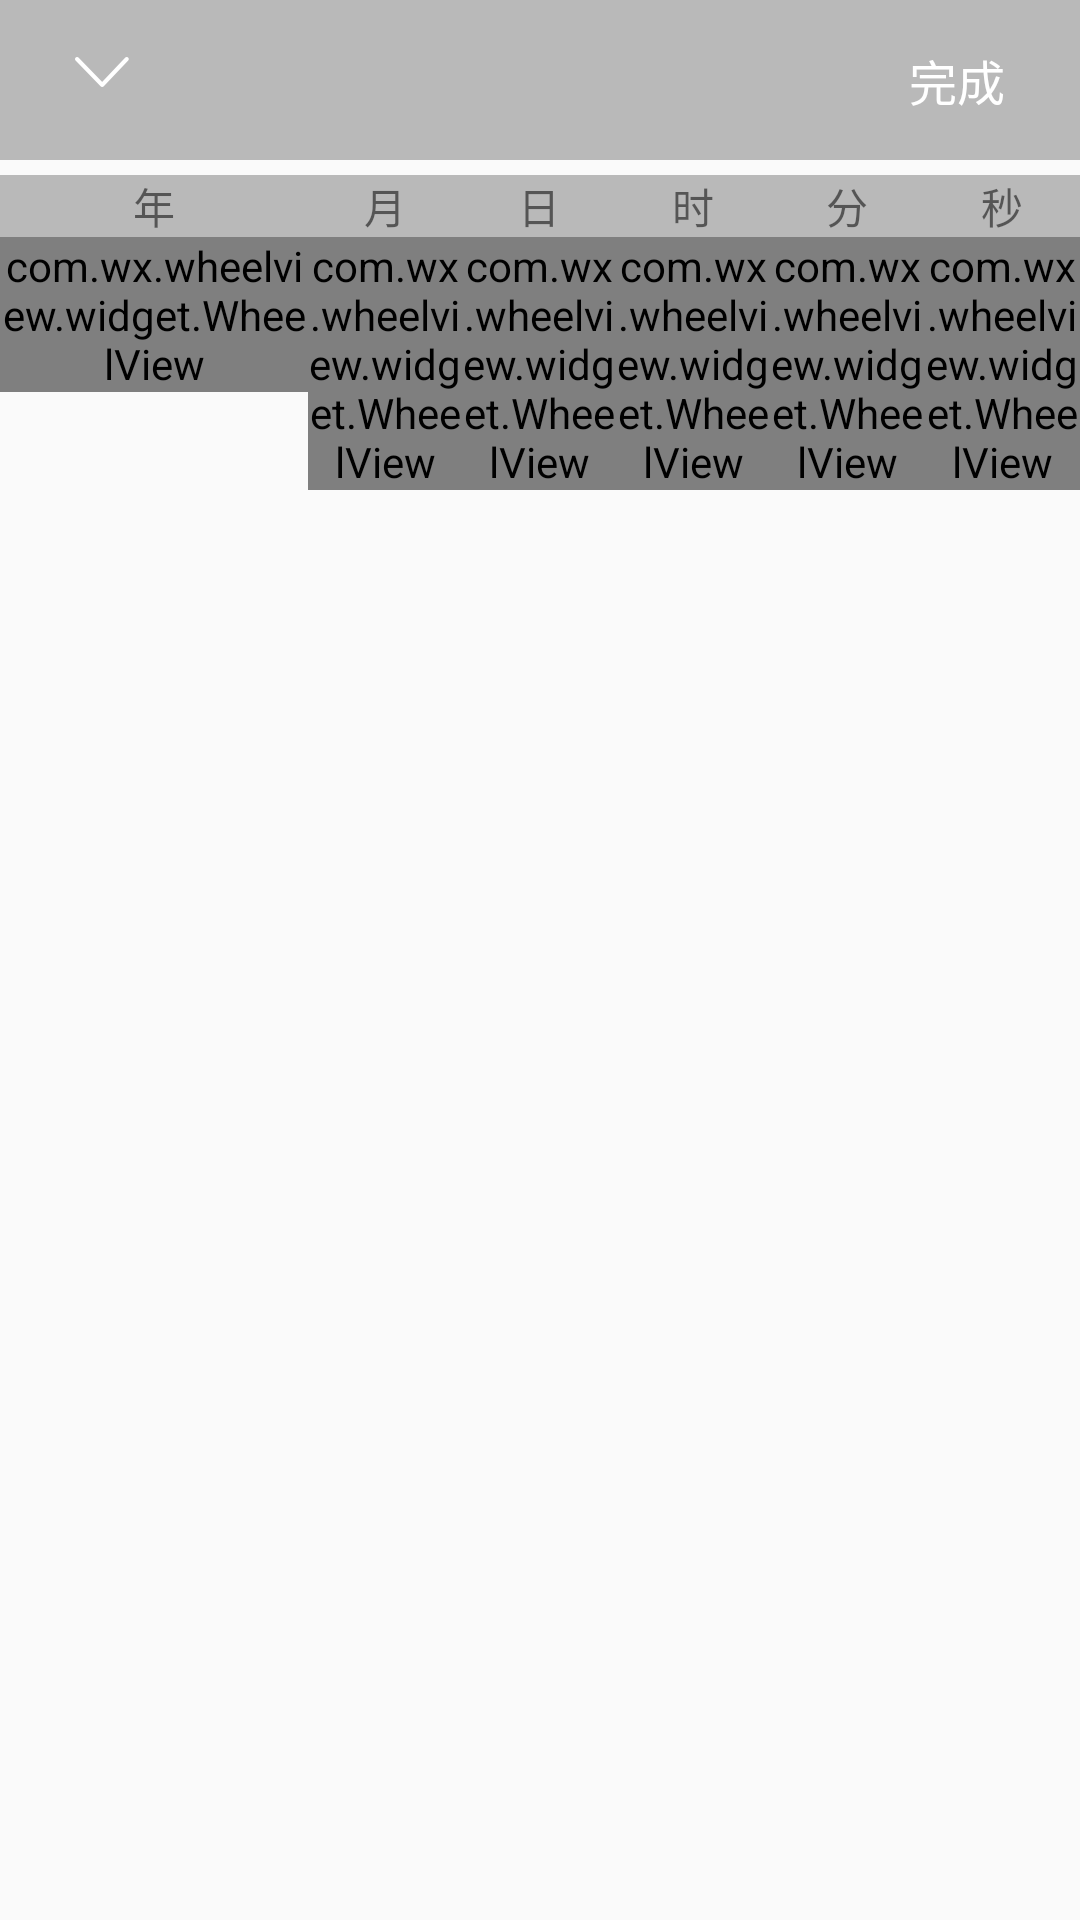

Locate icon controls on the screen. Image size 1080*1920, boxes as (x1, y1, x2, y2).
down: (75, 57, 129, 87)
